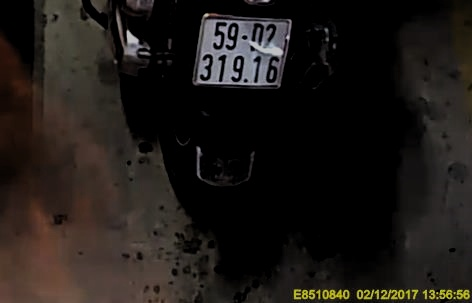plate: (197, 12, 284, 90)
